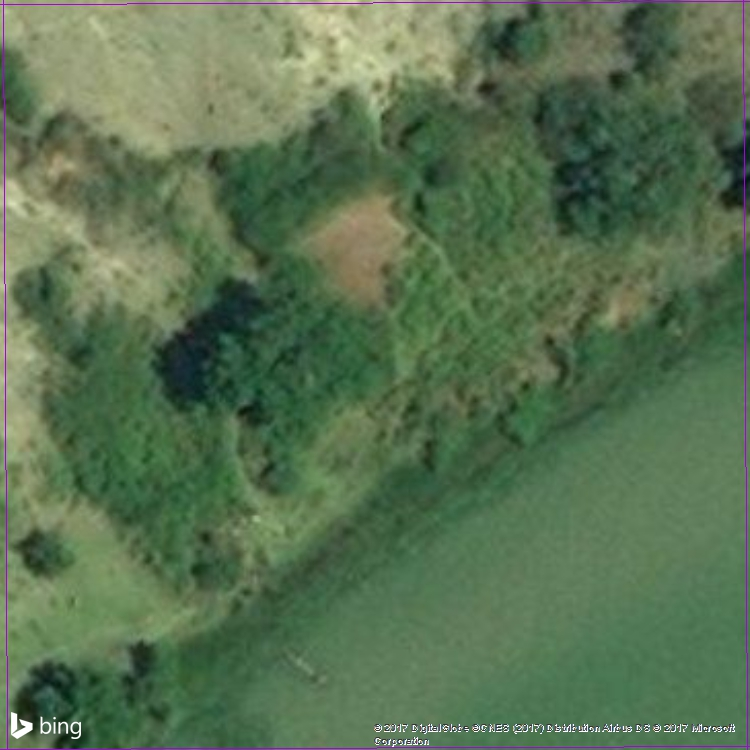boat: (274, 628, 338, 699)
